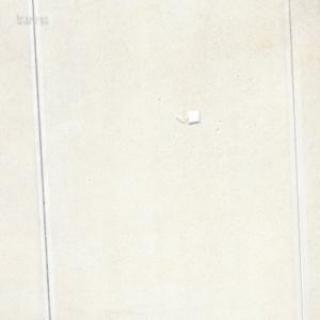LuggageTagtrack_idkeyframe: (174, 108, 200, 125)
